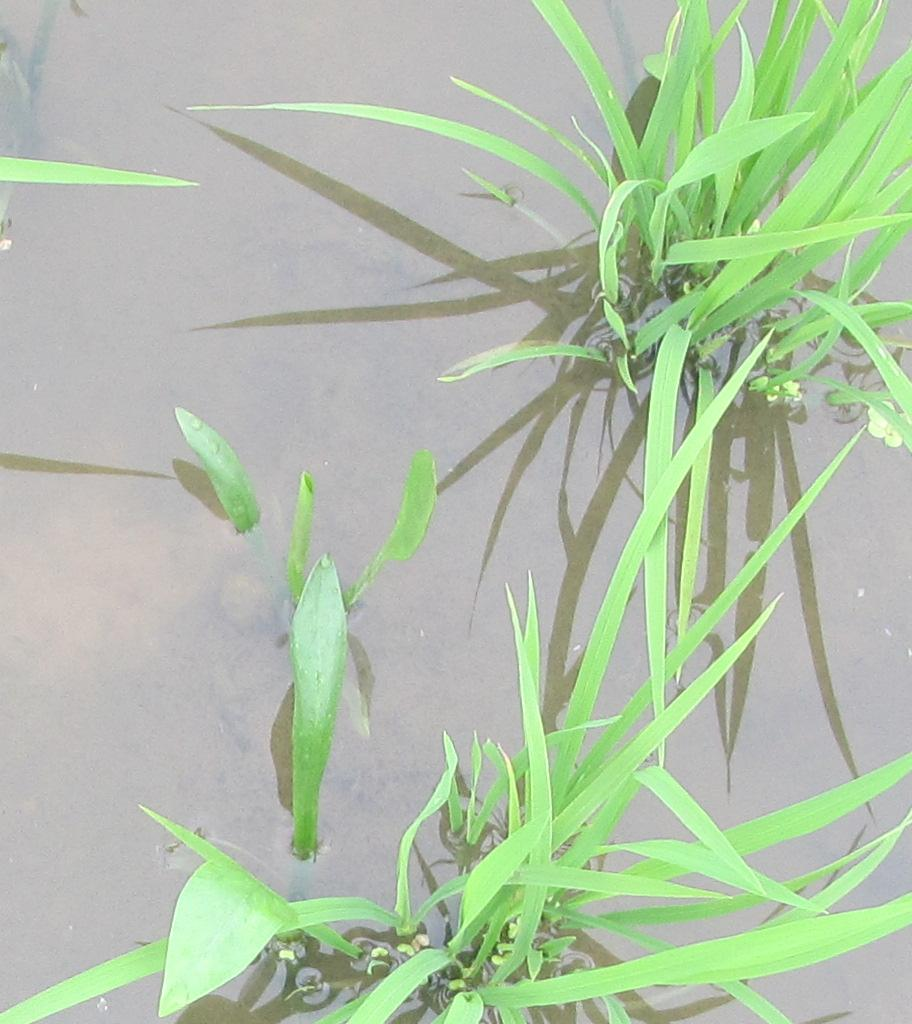Weed: (154, 857, 287, 1014)
